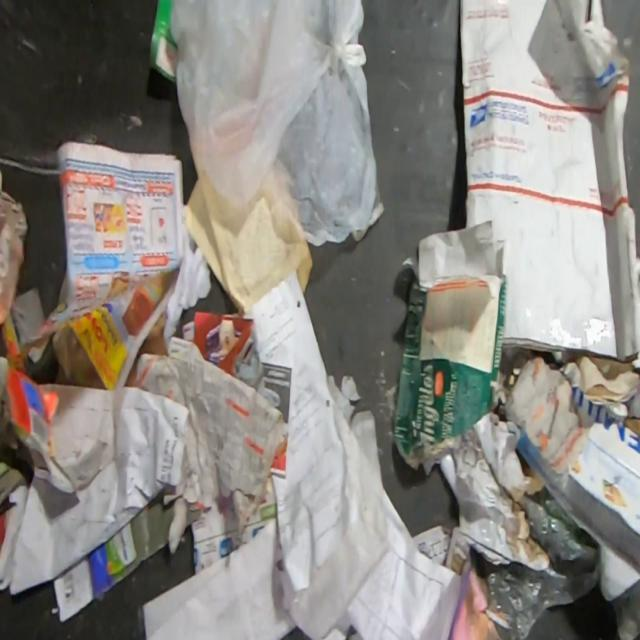cardboard: (457, 0, 640, 365), (392, 219, 508, 475), (513, 386, 640, 604)
soft_plastic: (168, 0, 387, 247), (469, 486, 599, 639)
